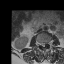CCS_normal: (43, 40, 44, 49)
LFS_stenosis: (46, 39, 48, 46)
LLS_stenosis: (44, 40, 46, 47)
RFS_normal: (39, 40, 41, 48)
RLS_normal: (41, 40, 43, 47)
